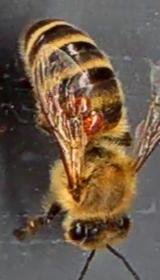varroa_mite: (72, 102, 102, 136), (65, 90, 92, 120)
